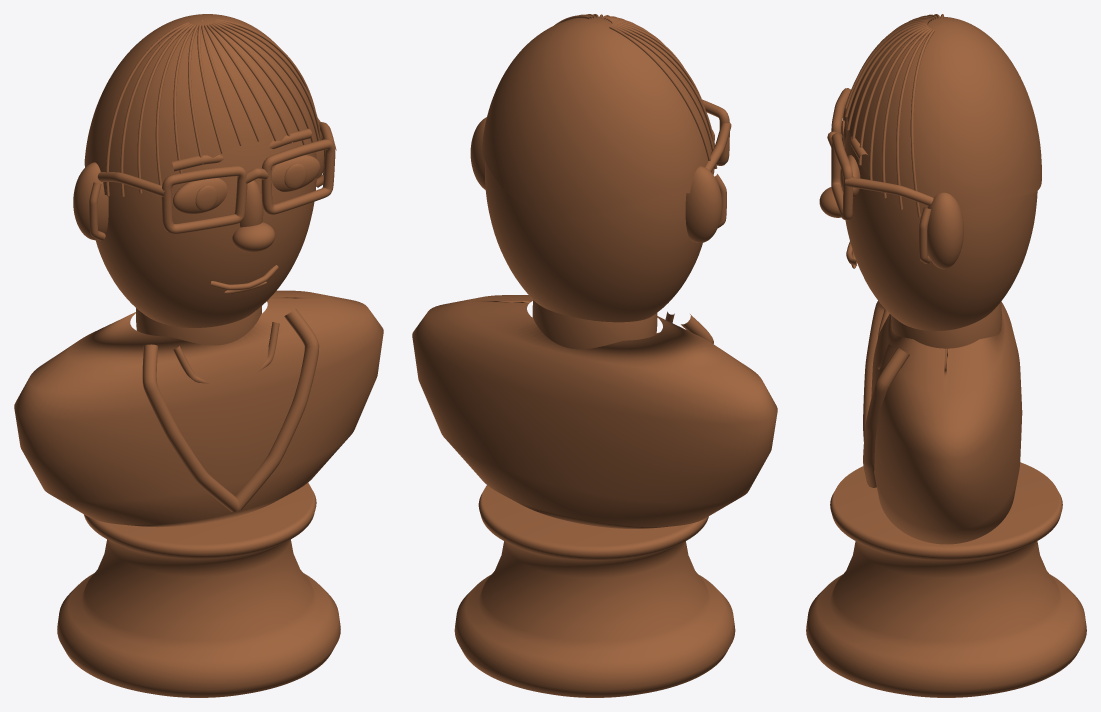
File: portrait-bronze.glb
3 views of the same model, side by side, from view 1: azimuth 30°, elevation 25°; view 2: azimuth 150°, elevation 25°; view 3: azimuth 270°, elevation 25° (orthographic).
Visible parts, largest first — view 1: Sweater_shoulders, Chess_pedestal, Swept_hair_cap, Head, V_neck_trim (×2), Thick_rectangular_glasses (×2), Hair_sweep_detail (×4), Neck, Eye (×2), Left_ear, Nose_tip, Nose_bridge (+2 smaller); view 2: Sweater_shoulders, Chess_pedestal, Swept_hair_cap, Head, Neck, Left_ear, Hair_sweep_detail (×2), Right_ear; view 3: Chess_pedestal, Sweater_shoulders, Swept_hair_cap, Head, Hair_sweep_detail (×7), V_neck_trim (×2), Right_ear, Neck, Thick_rectangular_glasses (×2), Glasses_temple, Ear_rim.
Boxes of the visible parts, left/top/right/bottom form: Sweater_shoulders: left=14, top=290, right=383, bottom=527; Chess_pedestal: left=57, top=483, right=340, bottom=697; Swept_hair_cap: left=84, top=14, right=317, bottom=196; Head: left=95, top=140, right=316, bottom=327; V_neck_trim (×2): left=142, top=308, right=319, bottom=512; Thick_rectangular_glasses (×2): left=161, top=139, right=335, bottom=234; Hair_sweep_detail (×4): left=106, top=22, right=193, bottom=196; Neck: left=136, top=306, right=261, bottom=345; Eye (×2): left=173, top=155, right=320, bottom=213; Left_ear: left=73, top=162, right=108, bottom=240; Nose_tip: left=232, top=222, right=275, bottom=252; Nose_bridge: left=240, top=180, right=263, bottom=227; Sweater_shoulders: left=412, top=295, right=777, bottom=528; Chess_pedestal: left=454, top=485, right=735, bottom=697; Swept_hair_cap: left=482, top=16, right=714, bottom=217; Head: left=485, top=161, right=702, bottom=322; Neck: left=532, top=300, right=657, bottom=349; Left_ear: left=685, top=166, right=721, bottom=242; Hair_sweep_detail (×2): left=609, top=25, right=717, bottom=174; Right_ear: left=470, top=117, right=486, bottom=189; Chess_pedestal: left=806, top=462, right=1086, bottom=697; Sweater_shoulders: left=871, top=301, right=1022, bottom=544; Swept_hair_cap: left=847, top=16, right=1041, bottom=215; Head: left=843, top=130, right=1037, bottom=331; Hair_sweep_detail (×7): left=846, top=23, right=934, bottom=216; V_neck_trim (×2): left=863, top=301, right=909, bottom=487; Right_ear: left=927, top=192, right=963, bottom=269; Neck: left=891, top=302, right=1001, bottom=348; Thick_rectangular_glasses (×2): left=831, top=88, right=853, bottom=220; Glasses_temple: left=845, top=177, right=933, bottom=206; Ear_rim: left=919, top=207, right=931, bottom=263.
Bounding box in the file's own units: 2.24 × 3.72 × 1.52.
